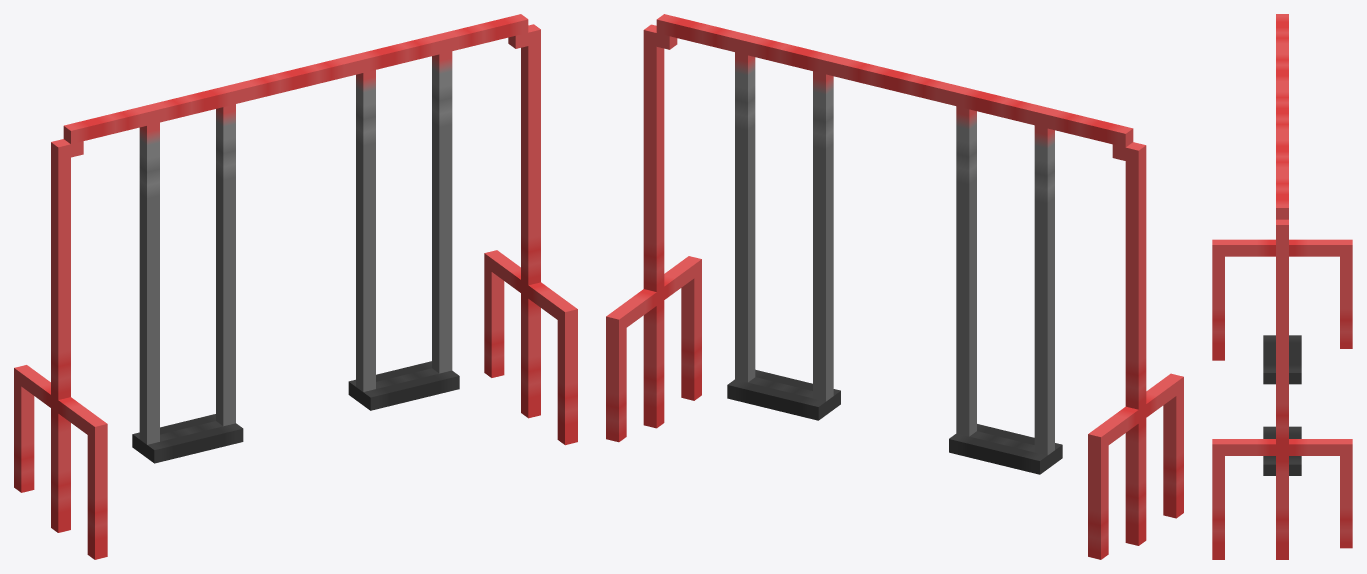
File: swings.obj
The picture shows the model from 3 angles, left to right: view 1: azimuth 30°, elevation 25°; view 2: azimuth 150°, elevation 25°; view 3: azimuth 270°, elevation 25°; orthographic projection. The views are drawn at different scales.
Parts seen in each view (by area): view 1: Box_43; view 2: Box_43; view 3: Box_43.
Part boxes in pixels (<box>): Box_43: <box>14,14,577,559</box>; Box_43: <box>606,14,1183,559</box>; Box_43: <box>1212,14,1352,559</box>.
Bounding box in the file's own units: 38 × 30 × 11.
1 material, 1 textured.
